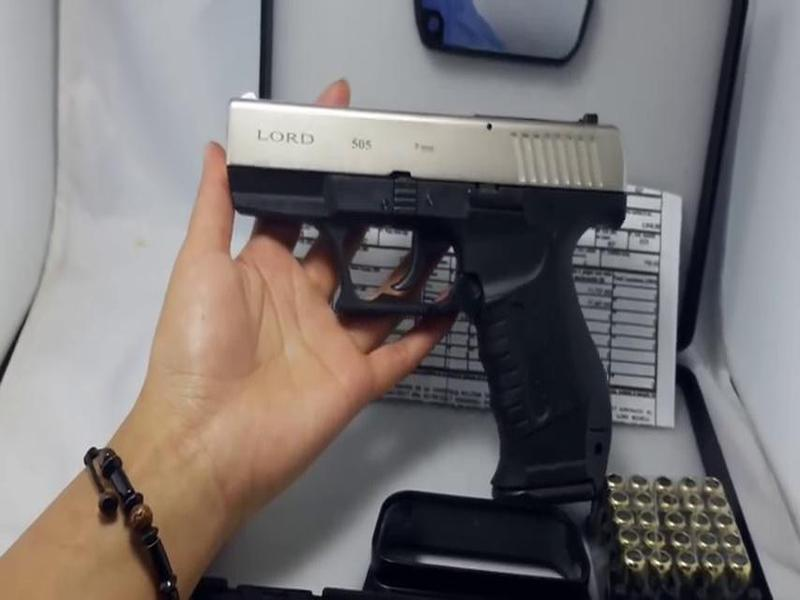Pistola: (183, 89, 667, 520)
